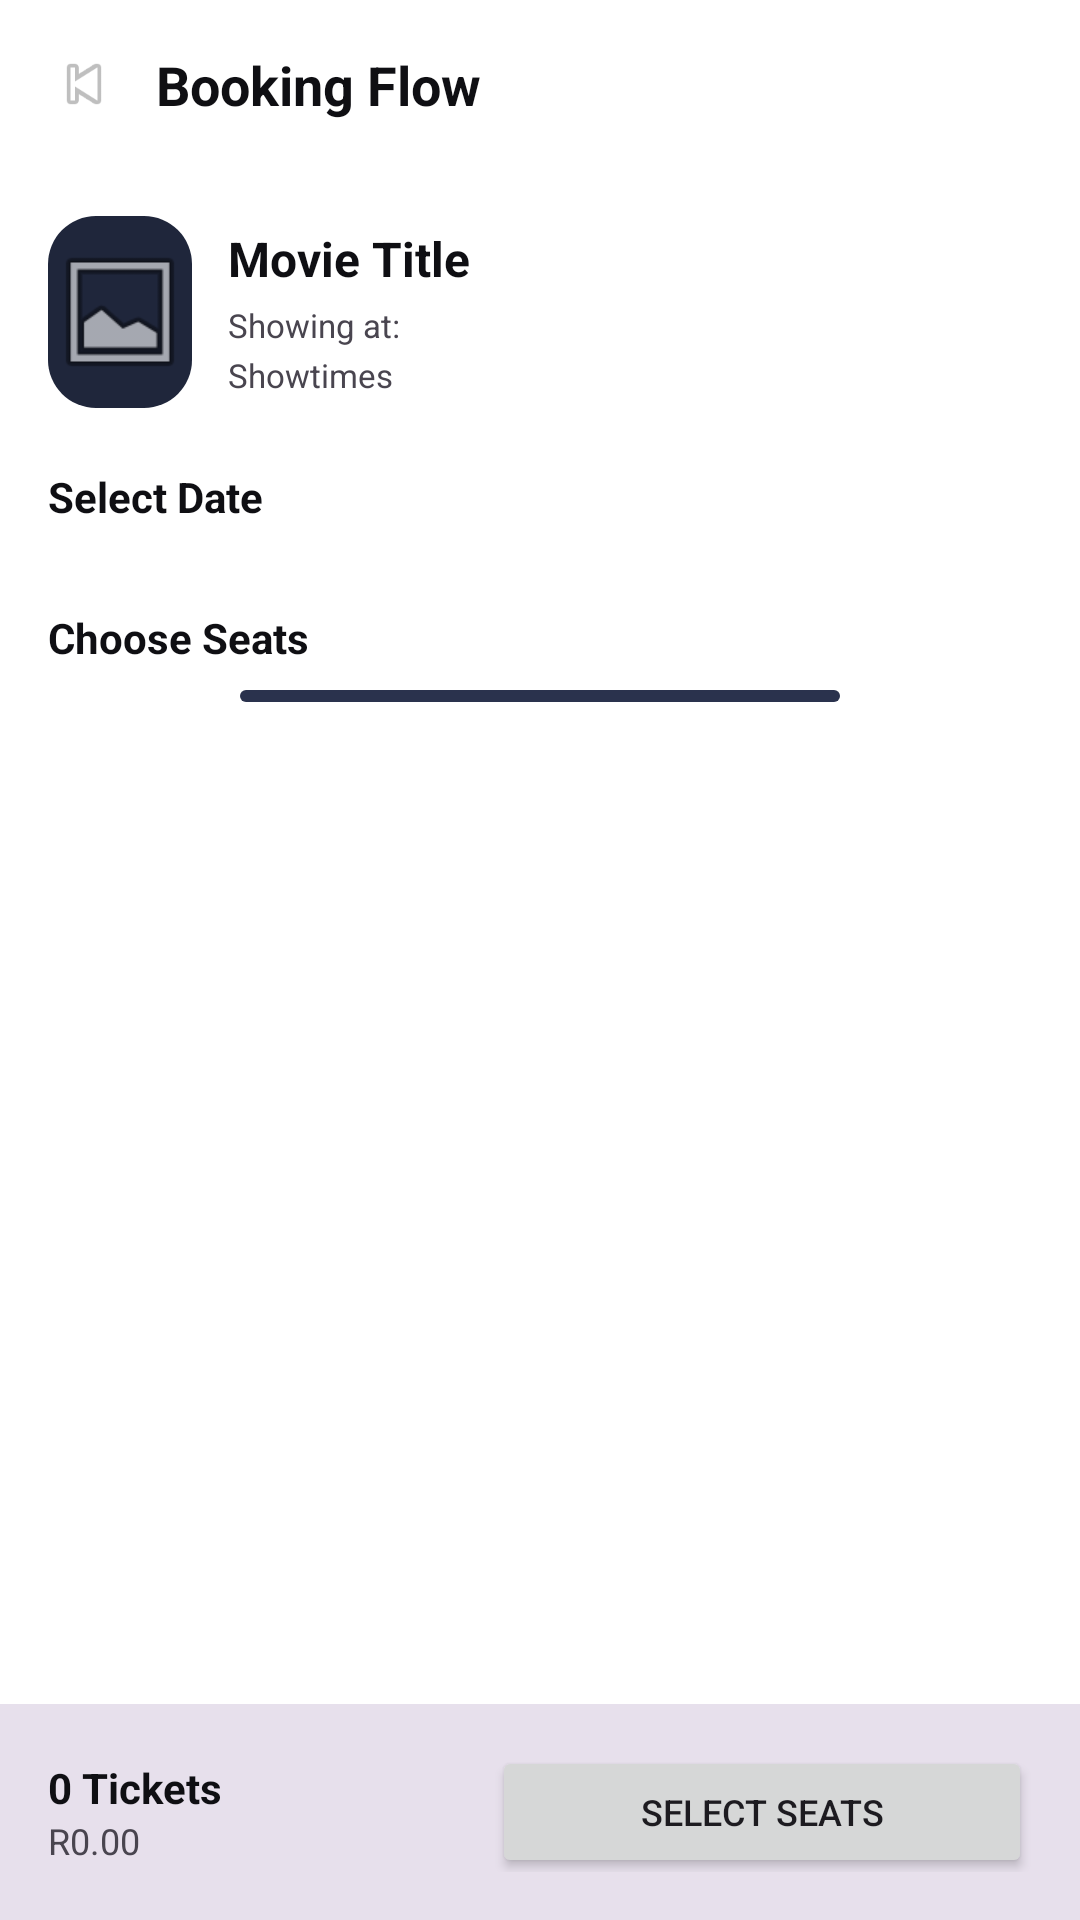

Where icons sit on this 1080 × 1920 app screen, as detection(x1, y1, x2, y2):
gallery: detection(48, 216, 192, 408)
previous: detection(67, 64, 101, 104)
